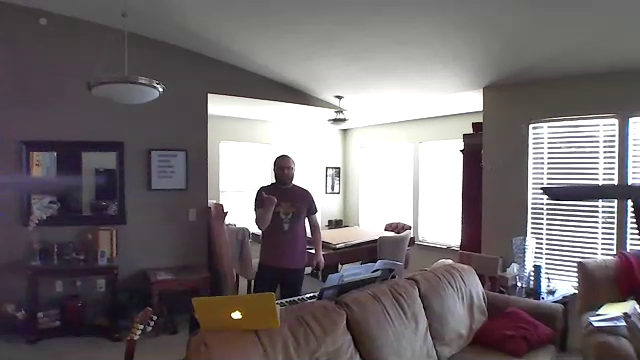land: (257, 189, 281, 205)
